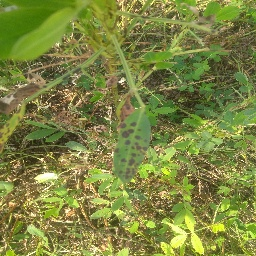GroundNut_Leaf: (1, 1, 87, 60), (112, 106, 152, 185), (87, 1, 119, 26), (206, 1, 240, 21), (24, 122, 57, 140), (140, 52, 173, 63), (170, 233, 190, 250), (181, 209, 196, 231), (183, 115, 208, 128), (192, 233, 206, 254), (65, 140, 88, 151), (221, 196, 231, 216), (90, 208, 111, 217), (207, 48, 223, 59), (1, 181, 13, 195), (223, 113, 239, 123), (156, 107, 177, 114), (183, 178, 195, 190)
